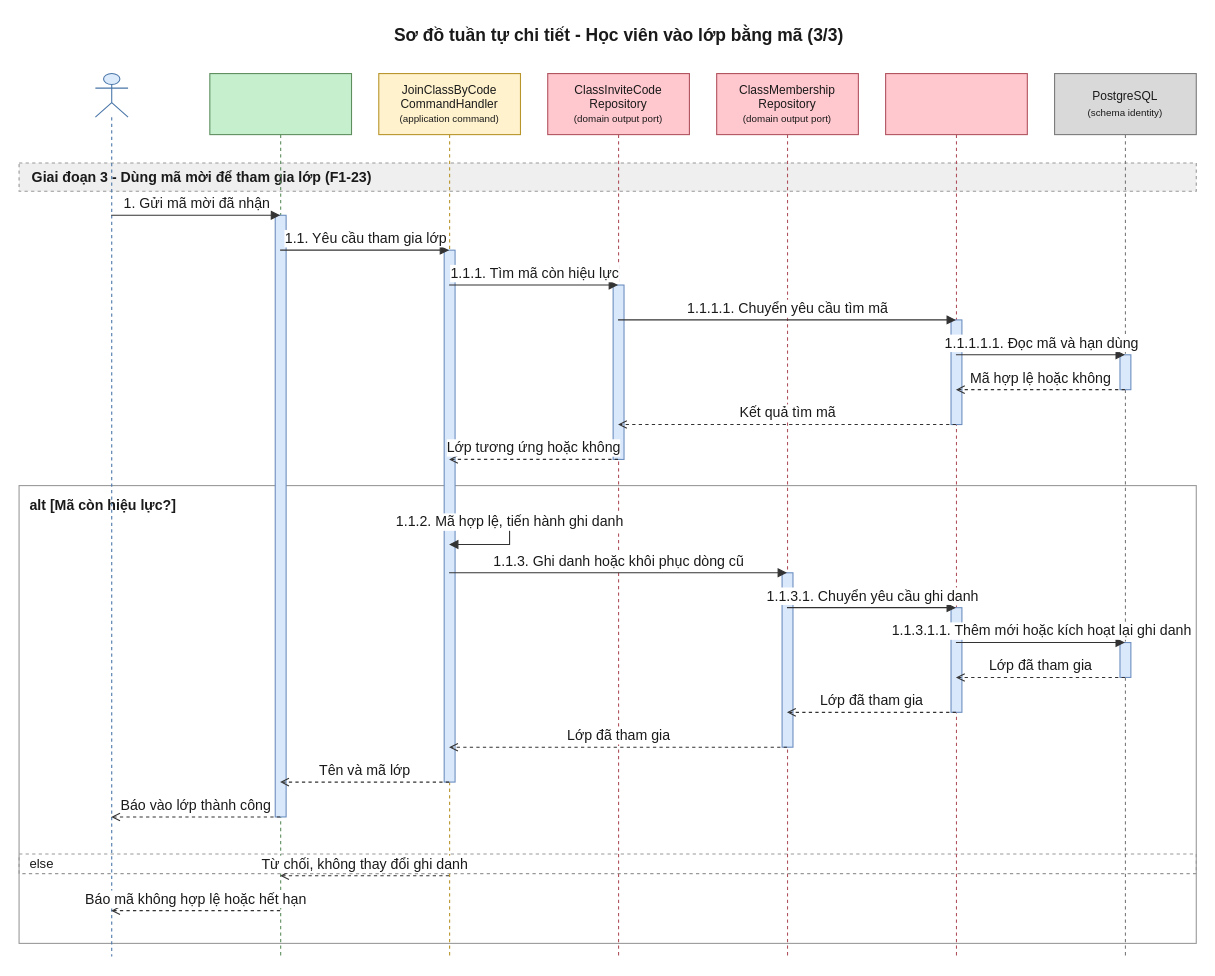
Image size: 1215x976. Some labels were removed from this diagram. The shapes that lost their labels are listed below. From the top down, each one's box as (x1, y1, x2, y2) in pixels, then its label:
(94, 72, 128, 956): Học viên
(209, 72, 352, 956): StudentClass Controller (presentation)
(885, 72, 1027, 956): JdbcInstructor ClassRepository (infrastructure)
